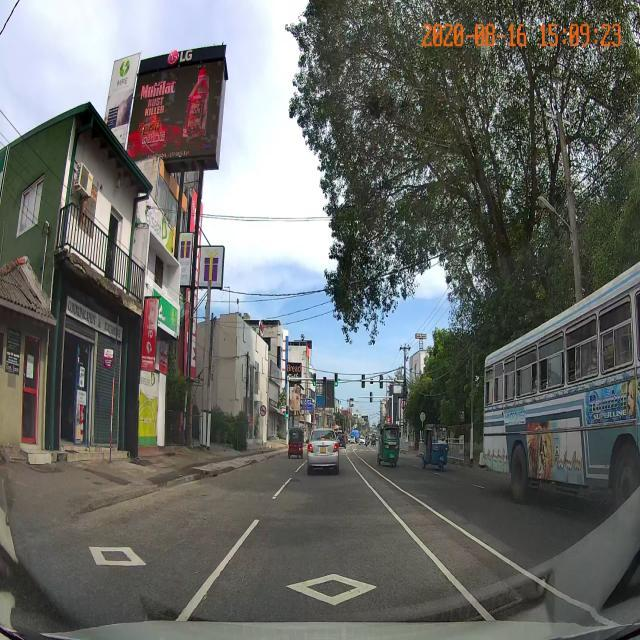diamond: (184, 566, 473, 610)
